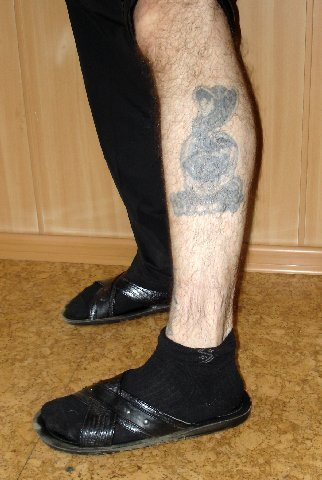tatu7_zmeya: (169, 72, 255, 257)
